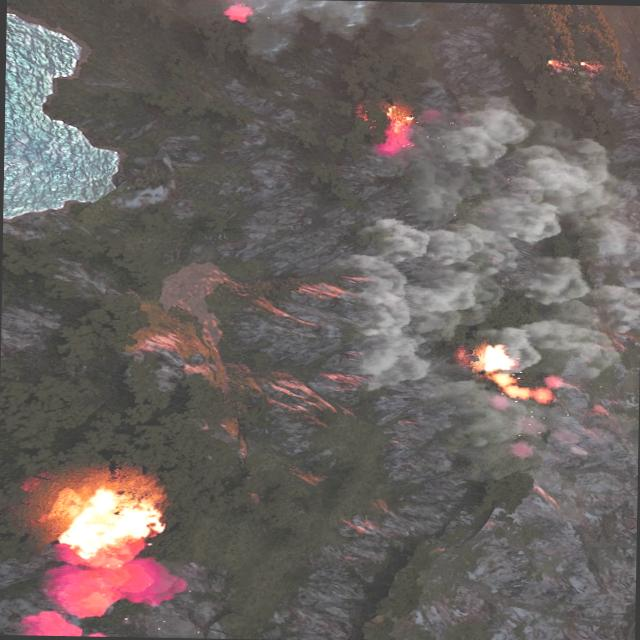fire: (54, 484, 166, 560), (477, 341, 559, 403), (374, 103, 416, 152), (219, 2, 249, 22), (540, 56, 564, 69), (580, 59, 596, 70)
smoke: (344, 98, 640, 447), (21, 554, 190, 638)
